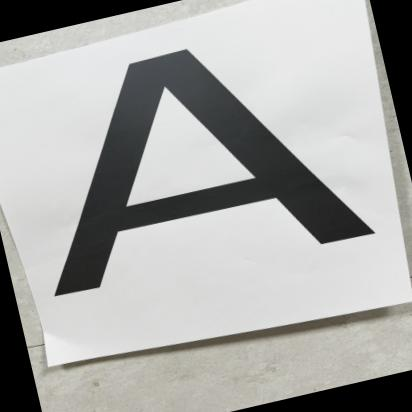seat: (0, 6, 387, 346)
